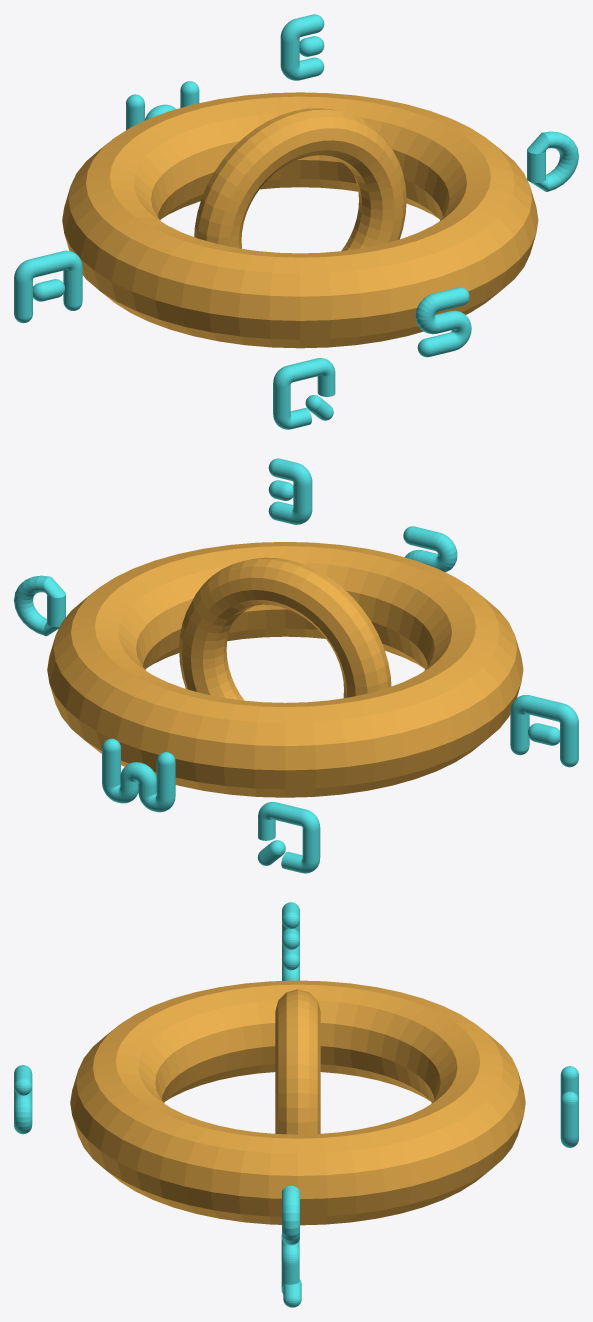
The model's file is compass.fbx.
3 renders of one model, top to bottom at view 1: azimuth 30°, elevation 25°; view 2: azimuth 150°, elevation 25°; view 3: azimuth 270°, elevation 25°, orthographic. The views are drawn at different scales.
Parts seen in each view (by area): view 1: outer ring, A, Q, S, E, D, W; view 2: outer ring, W, A, Q, E, D, S; view 3: outer ring, W, S, Q, E, D.
Part boxes in pixels (x1,y1,x2,y2): outer ring: (62,92,538,348); A: (14,250,82,323); Q: (273,358,335,429); S: (415,287,471,357); E: (280,14,324,80); D: (527,131,578,191); W: (126,81,199,130); outer ring: (47,542,523,797); W: (102,738,175,812); A: (510,695,578,767); Q: (257,802,320,873); E: (268,458,312,524); D: (14,575,65,636); S: (403,526,457,572); outer ring: (70,980,525,1225); W: (560,1066,578,1147); S: (14,1065,32,1134); Q: (281,1234,301,1307); E: (282,902,299,970); D: (282,1185,299,1245).
Size of the model in its own units: 341 by 236 by 310.
